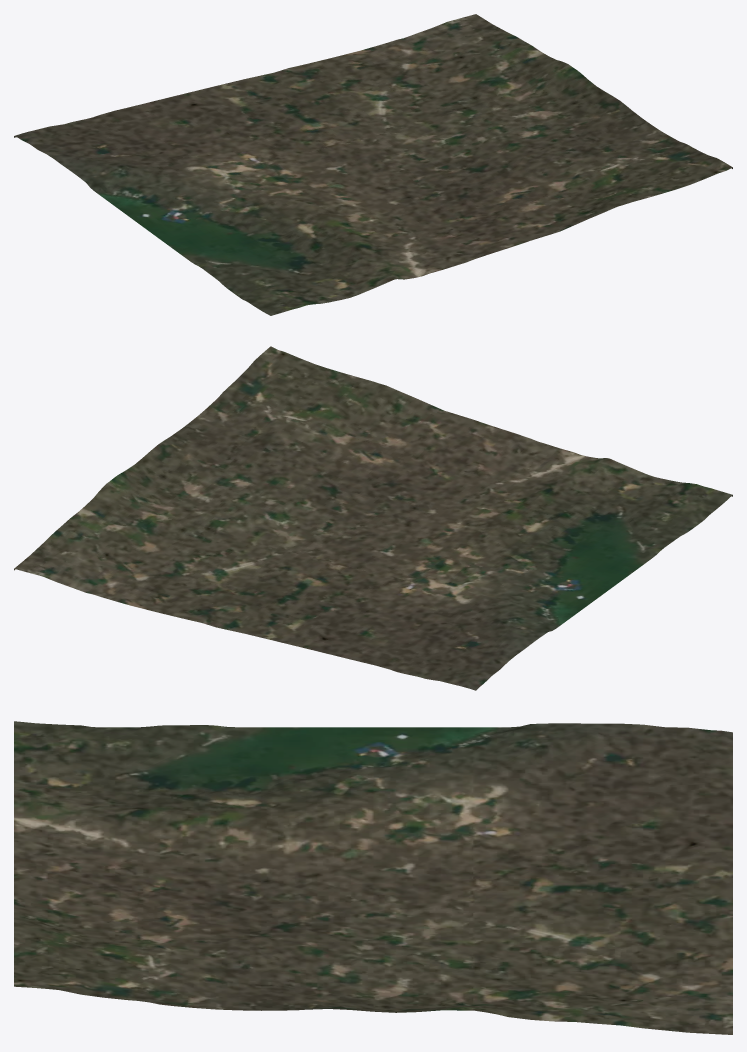
3 renders of one model, top to bottom at view 1: azimuth 30°, elevation 25°; view 2: azimuth 150°, elevation 25°; view 3: azimuth 270°, elevation 25°, orthographic. The views are drawn at different scales.
Size of the model in its own units: 250 by 23.96 by 241.
1 material, 1 textured.
